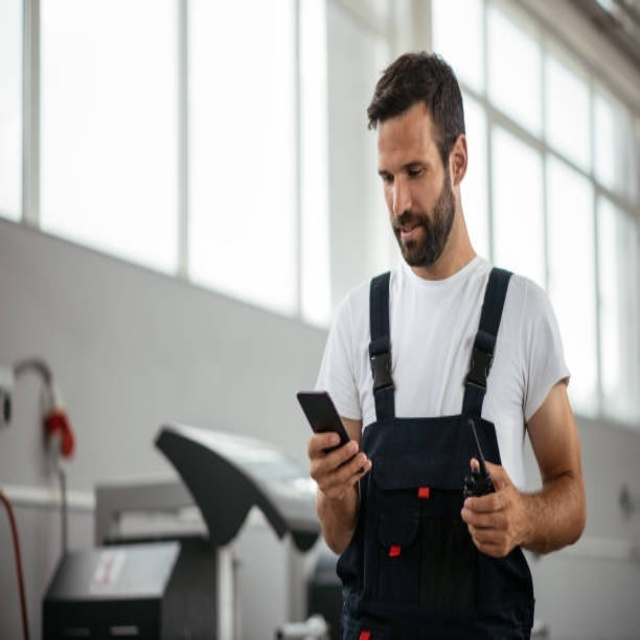Sin_gafas: (380, 147, 431, 188)
Sin_guantes: (459, 458, 523, 559), (306, 429, 370, 505)
Sin_mascara: (392, 212, 428, 256)
